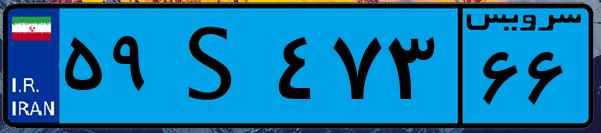3: (385, 28, 445, 110)
4: (270, 28, 330, 110)
5: (57, 26, 110, 100)
6: (475, 38, 525, 113), (525, 38, 570, 115)
7: (330, 28, 385, 110)
9: (110, 28, 158, 98)
S: (158, 12, 270, 120)
